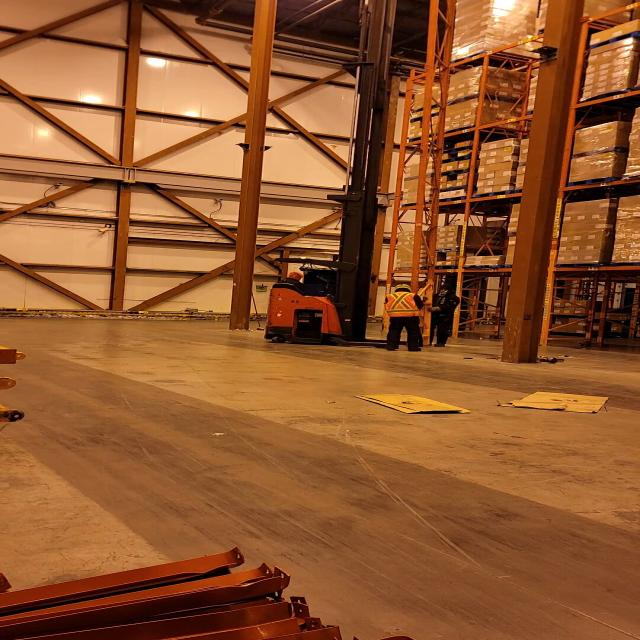forklift: (262, 192, 412, 351)
human: (375, 279, 432, 355), (433, 280, 467, 346), (260, 266, 315, 292)
objectofinterest: (399, 8, 456, 343), (347, 390, 475, 416), (494, 387, 610, 414)
